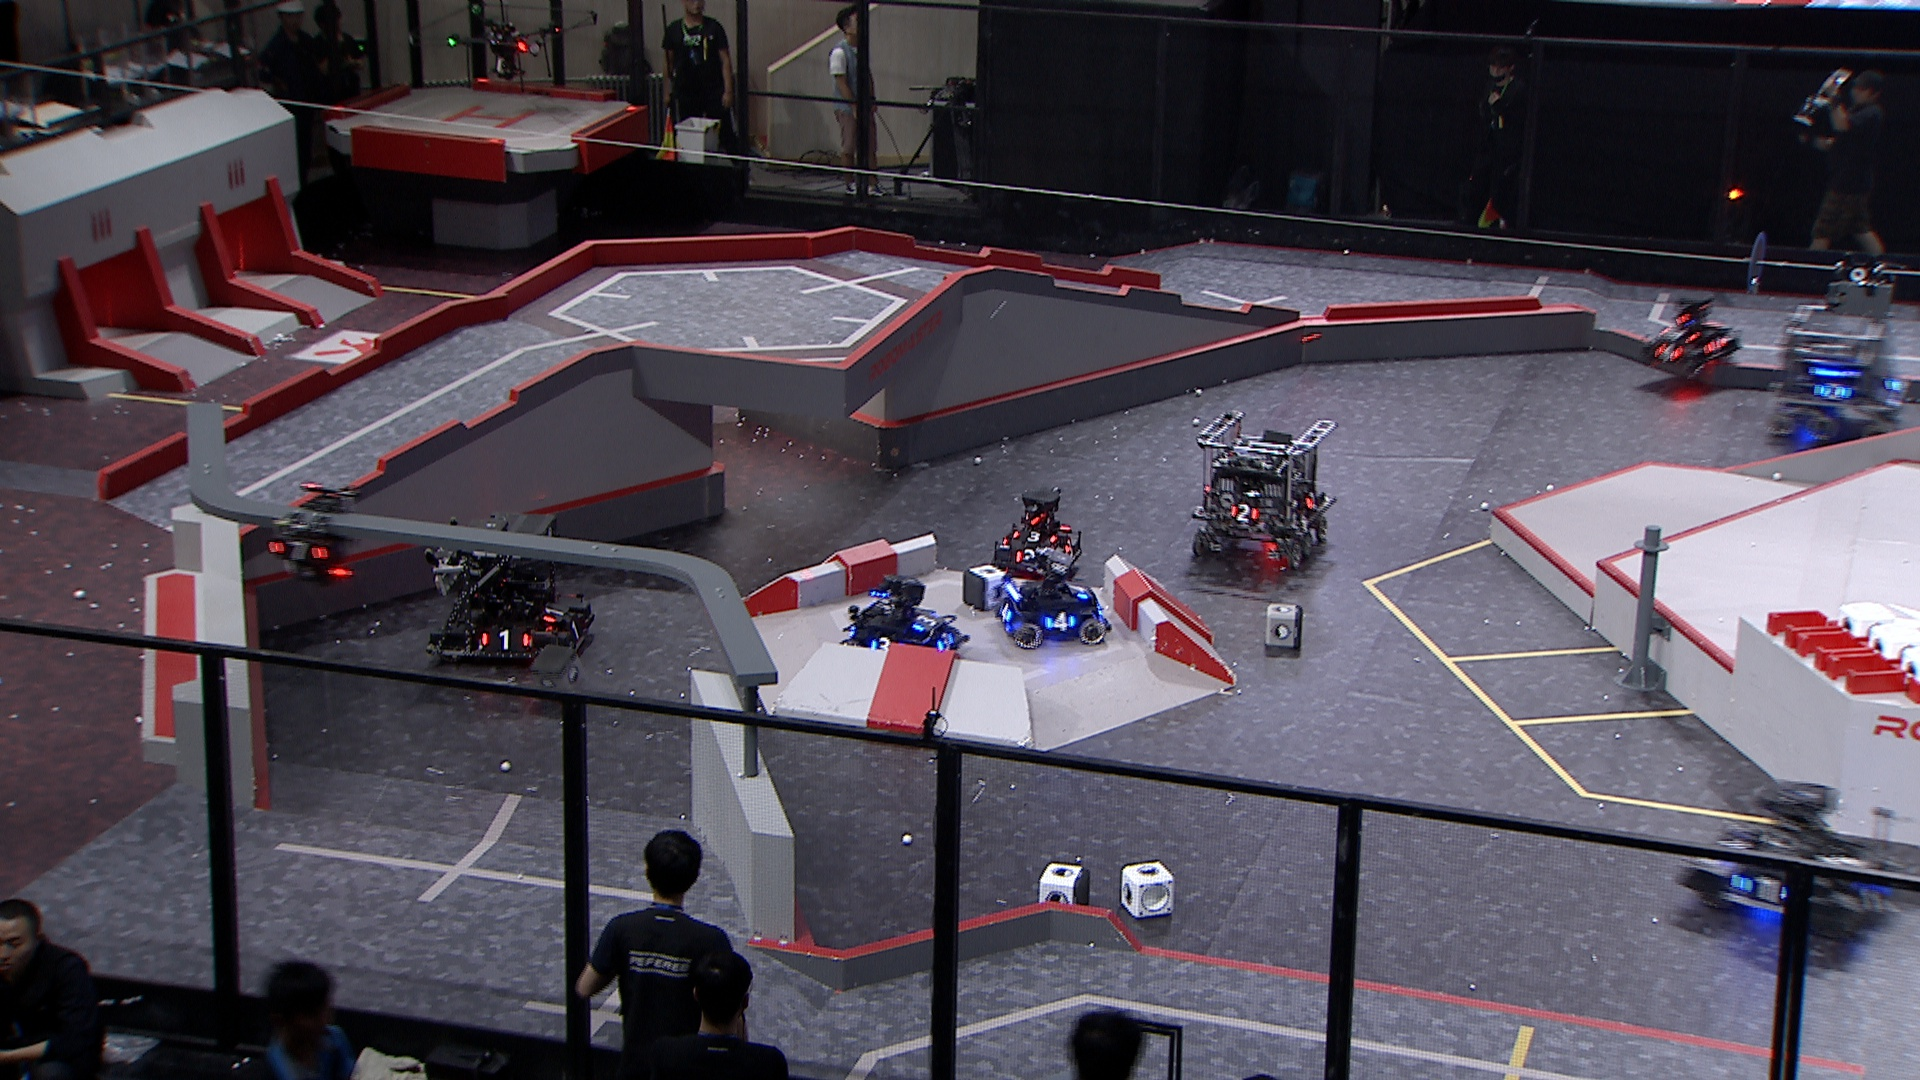armor: (1735, 874, 1787, 906), (479, 629, 534, 655), (272, 541, 328, 562), (1855, 884, 1892, 915), (1044, 611, 1077, 636), (1007, 529, 1058, 543), (1817, 382, 1851, 404), (1229, 502, 1262, 524), (1655, 343, 1684, 363), (1656, 328, 1698, 342), (1702, 335, 1731, 353), (538, 607, 564, 626), (936, 632, 959, 654), (870, 637, 899, 654), (1013, 547, 1040, 564), (913, 612, 935, 633), (996, 603, 1015, 626), (1068, 582, 1092, 600), (568, 618, 584, 641), (1304, 491, 1321, 510), (1063, 537, 1076, 560)
car: (1679, 777, 1907, 953), (425, 509, 596, 669), (1185, 406, 1342, 574), (1762, 301, 1912, 443), (989, 549, 1116, 647), (839, 574, 969, 665), (988, 487, 1091, 582), (1643, 290, 1747, 378)
watcher: (262, 483, 357, 584)
